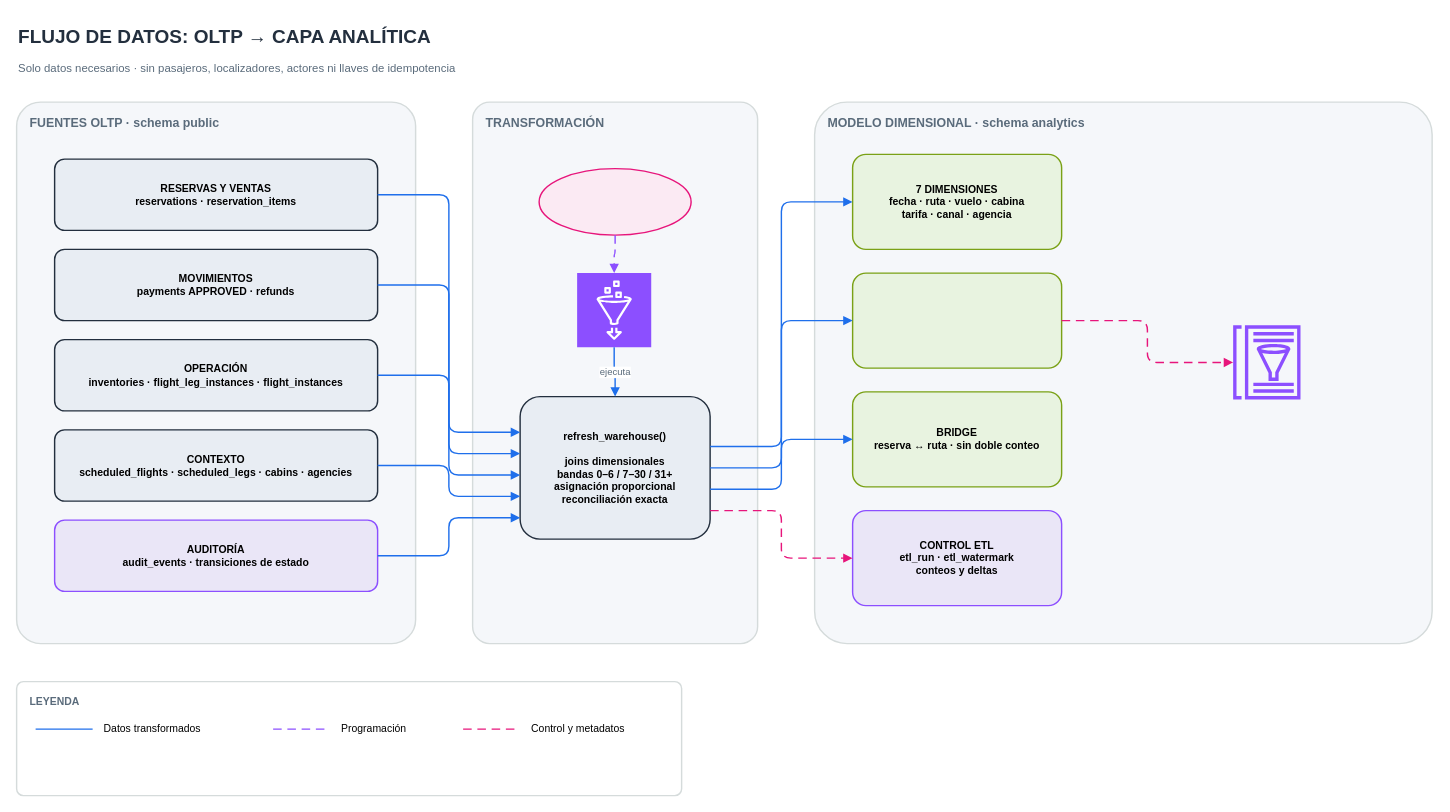
Image size: 1450x812. Some labels were removed from this diagram. The centre of each missing label's shape, as x and y in pixels:
3 HECHOS ventas por segmento · reserva ocupación por snapshot: point (956, 320)
AWS Glue: point (614, 310)
Glue Data Catalog airline_oltp airline_analytics: point (1266, 362)
Trigger Glue cada hora: point (614, 201)
